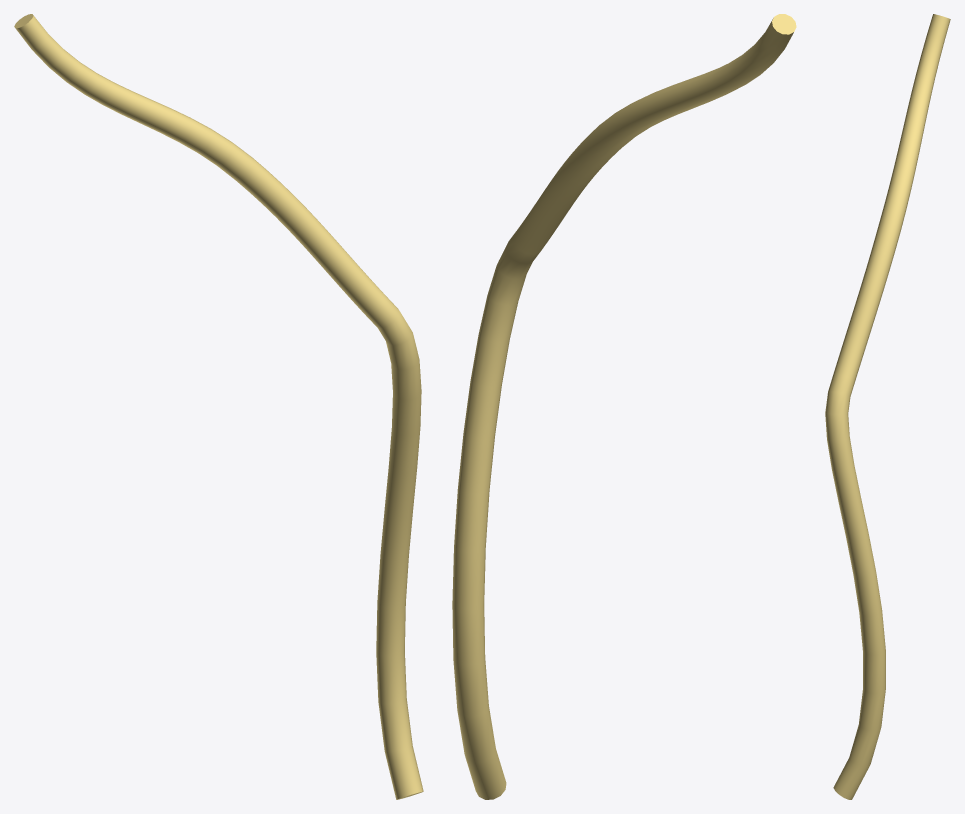
The picture shows the model from 3 angles, left to right: view 1: azimuth 30°, elevation 25°; view 2: azimuth 150°, elevation 25°; view 3: azimuth 270°, elevation 25°; orthographic projection. The views are drawn at different scales.
Visible parts, largest first — view 1: ZA_45bde77baca1891e; view 2: ZA_45bde77baca1891e; view 3: ZA_45bde77baca1891e.
Part boxes in pixels (left/top/right/bottom): ZA_45bde77baca1891e: left=14, top=14, right=423, bottom=799; ZA_45bde77baca1891e: left=452, top=14, right=796, bottom=799; ZA_45bde77baca1891e: left=825, top=14, right=950, bottom=799.
Size of the model in its own units: 0.014 by 0.0316 by 0.00545.
